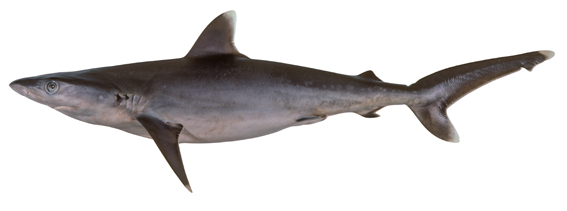fish: (10, 11, 555, 194)
